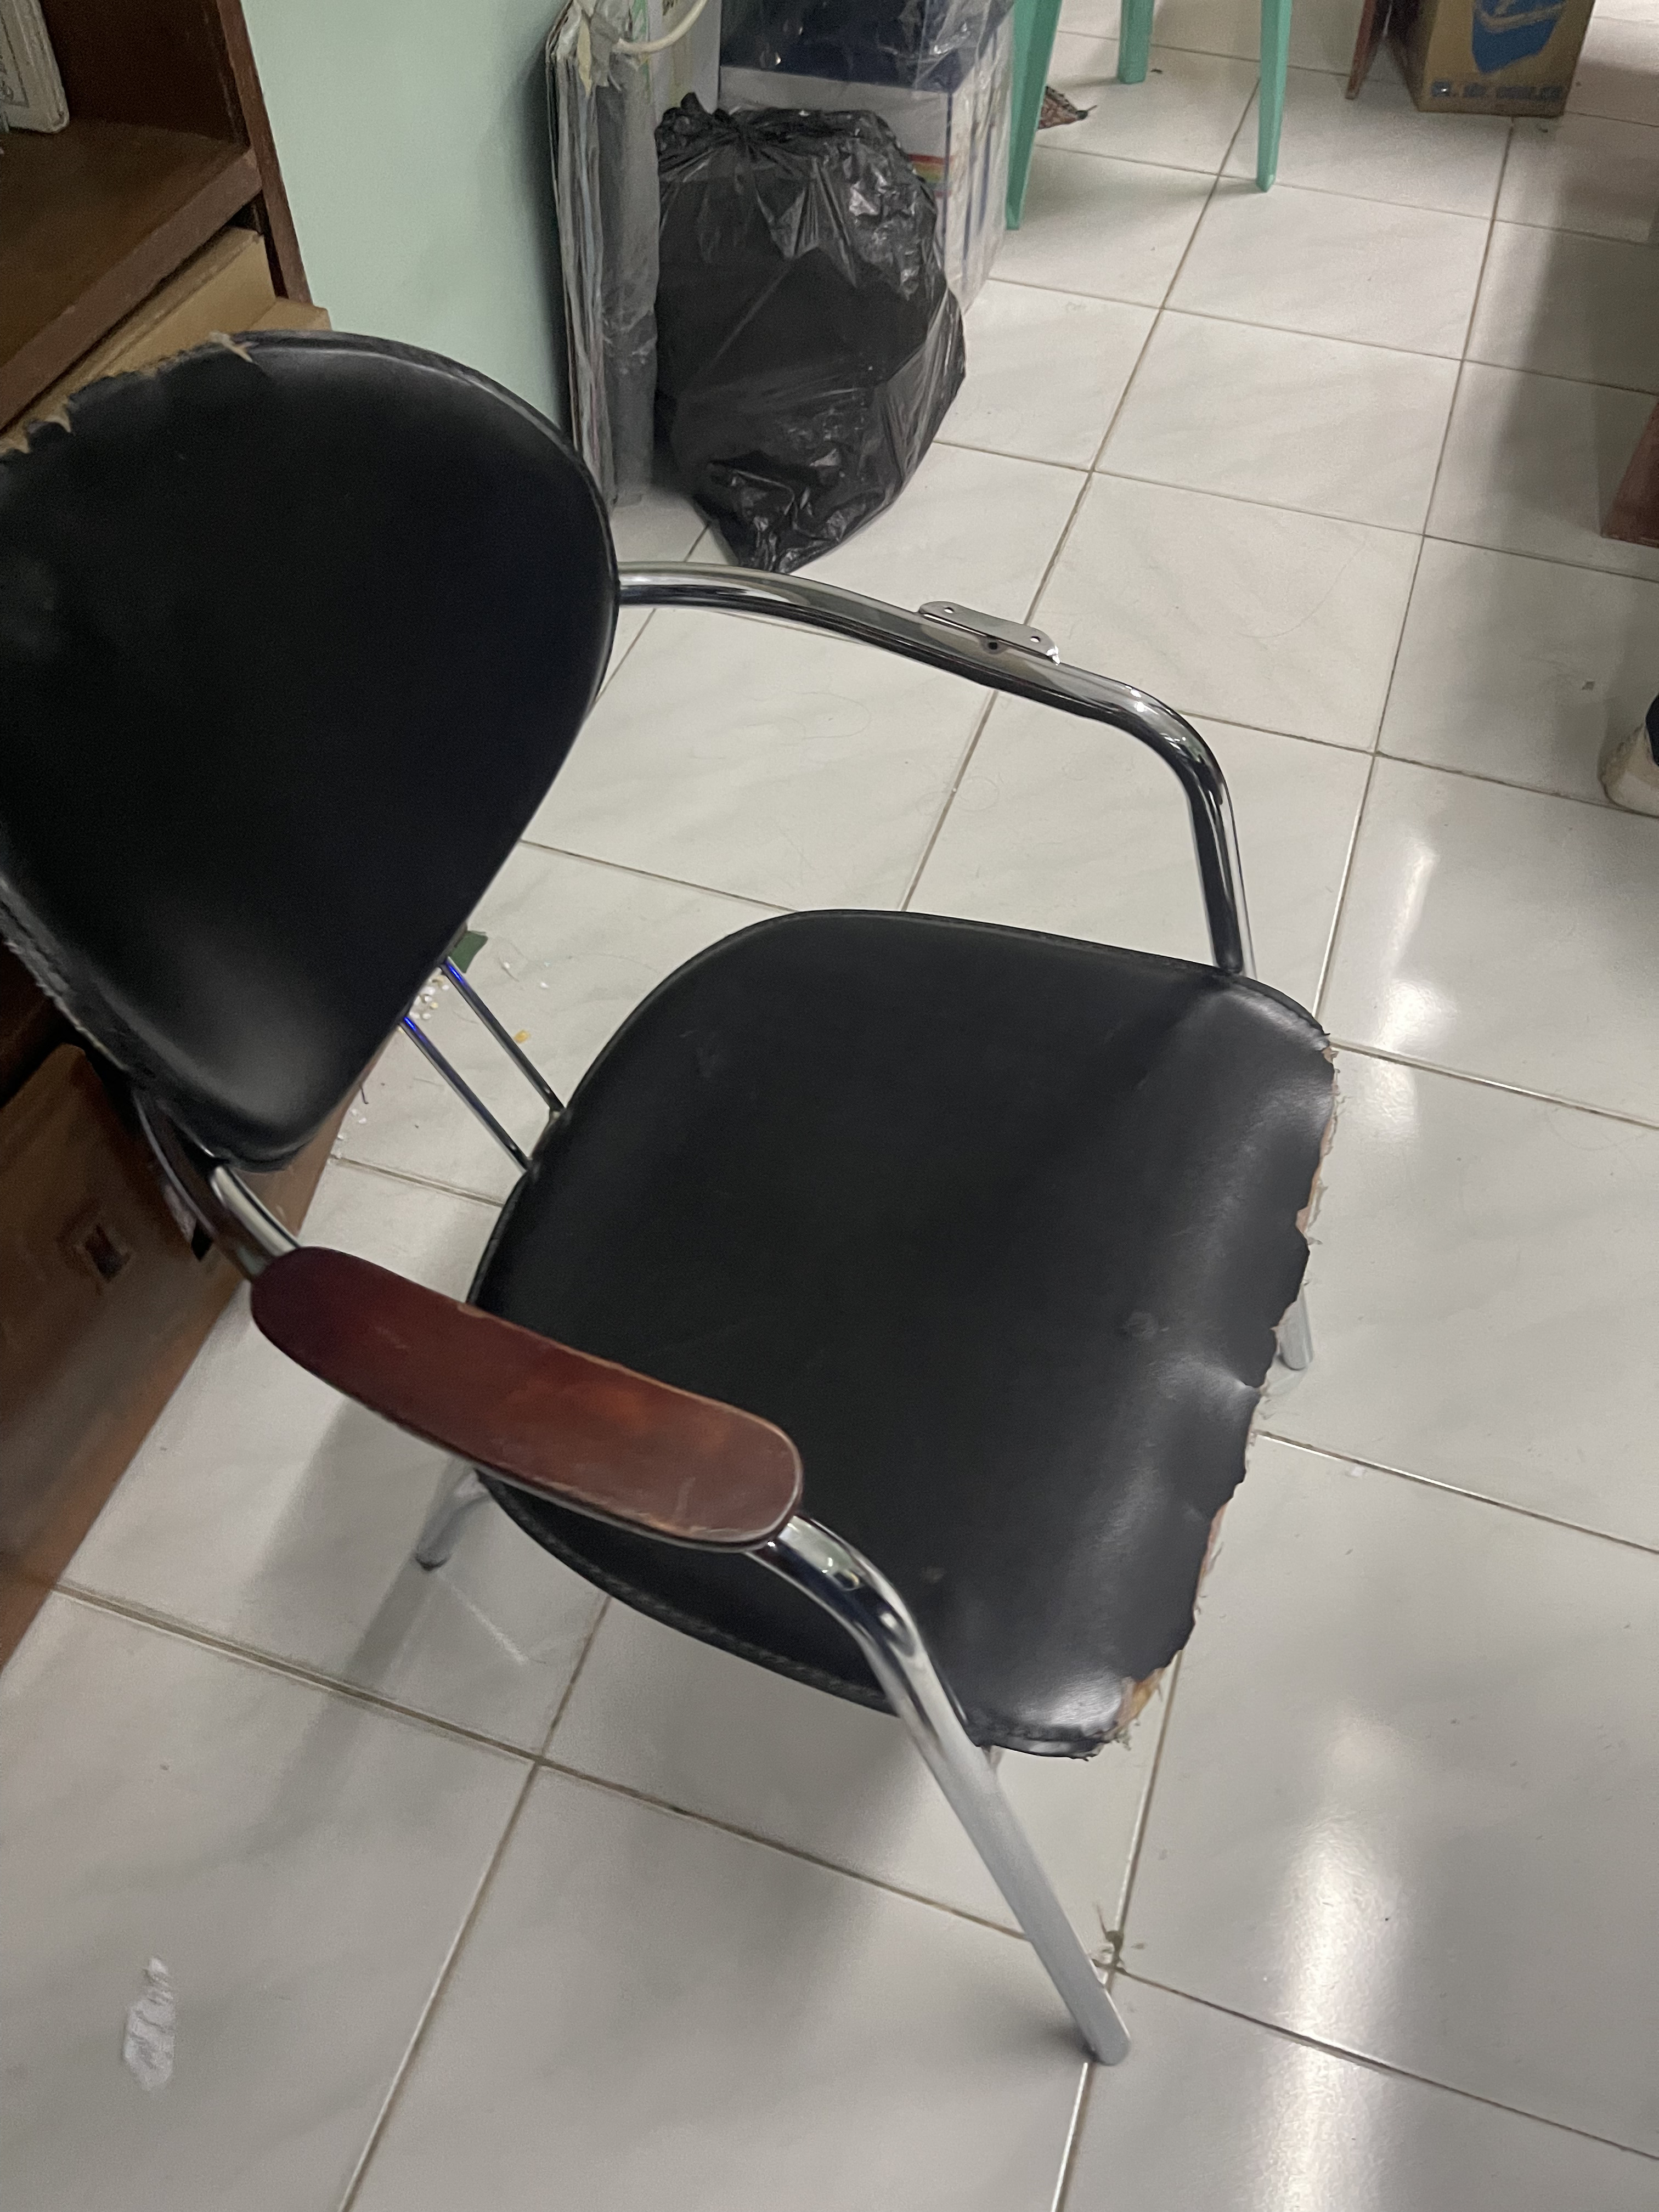chair1: (9, 336, 1337, 2062)
